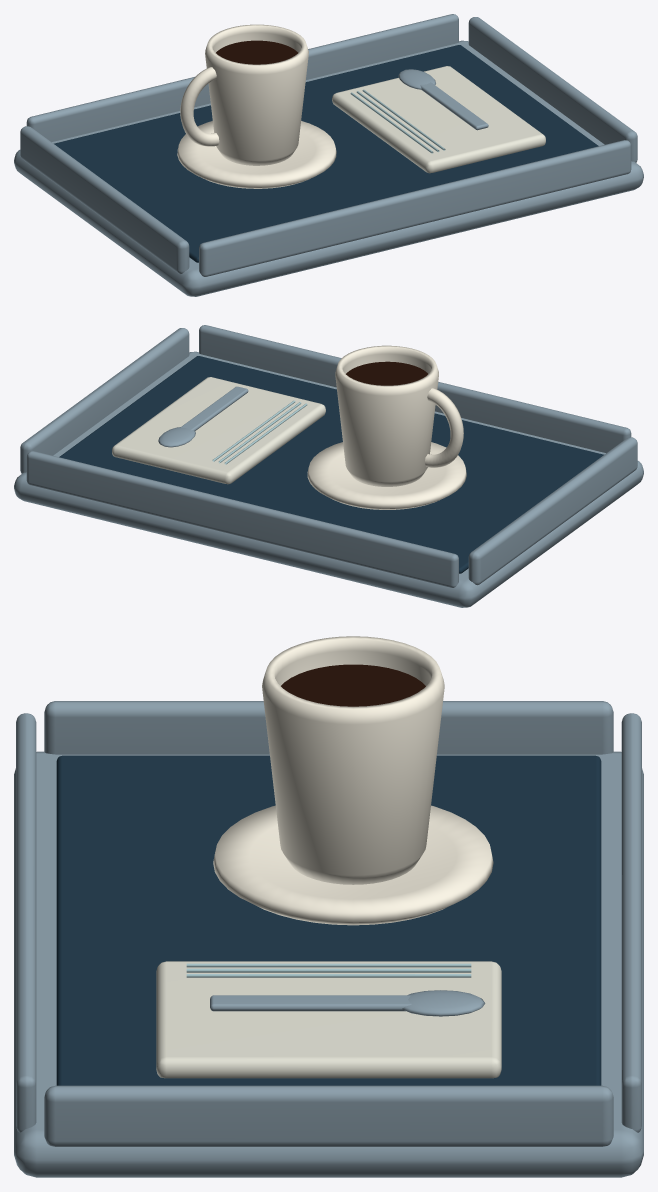
Rendered from coffee.glb.
The picture shows the model from 3 angles, top to bottom: view 1: azimuth 30°, elevation 25°; view 2: azimuth 150°, elevation 25°; view 3: azimuth 270°, elevation 25°; orthographic projection. The views are drawn at different scales.
Parts seen in each view (by area): view 1: Service coffee; view 2: Service coffee; view 3: Service coffee.
Part boxes in pixels (left/top/right/bottom): Service coffee: left=14, top=14, right=643, bottom=296; Service coffee: left=14, top=325, right=643, bottom=607; Service coffee: left=14, top=636, right=643, bottom=1177.
Size of the model in its own units: 0.46 by 0.1405 by 0.31.
